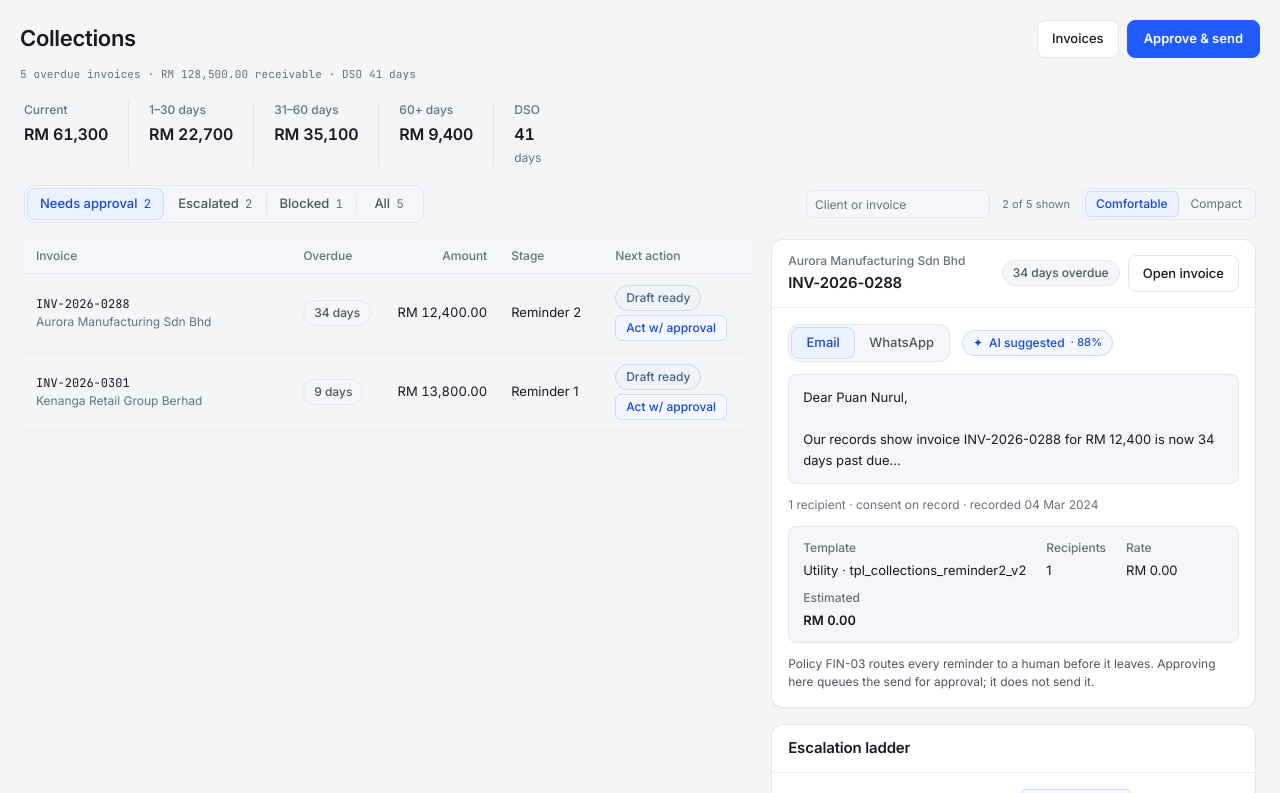
Test case: M13-S05 · collections queue › says the SEARCH is empty rather than claiming the bucket is clear
Check: the heading "Collections" is shown, box [20,22,136,55]
In the search field named "Search receivables": (898, 204) [806,190,990,218], type "no such client"
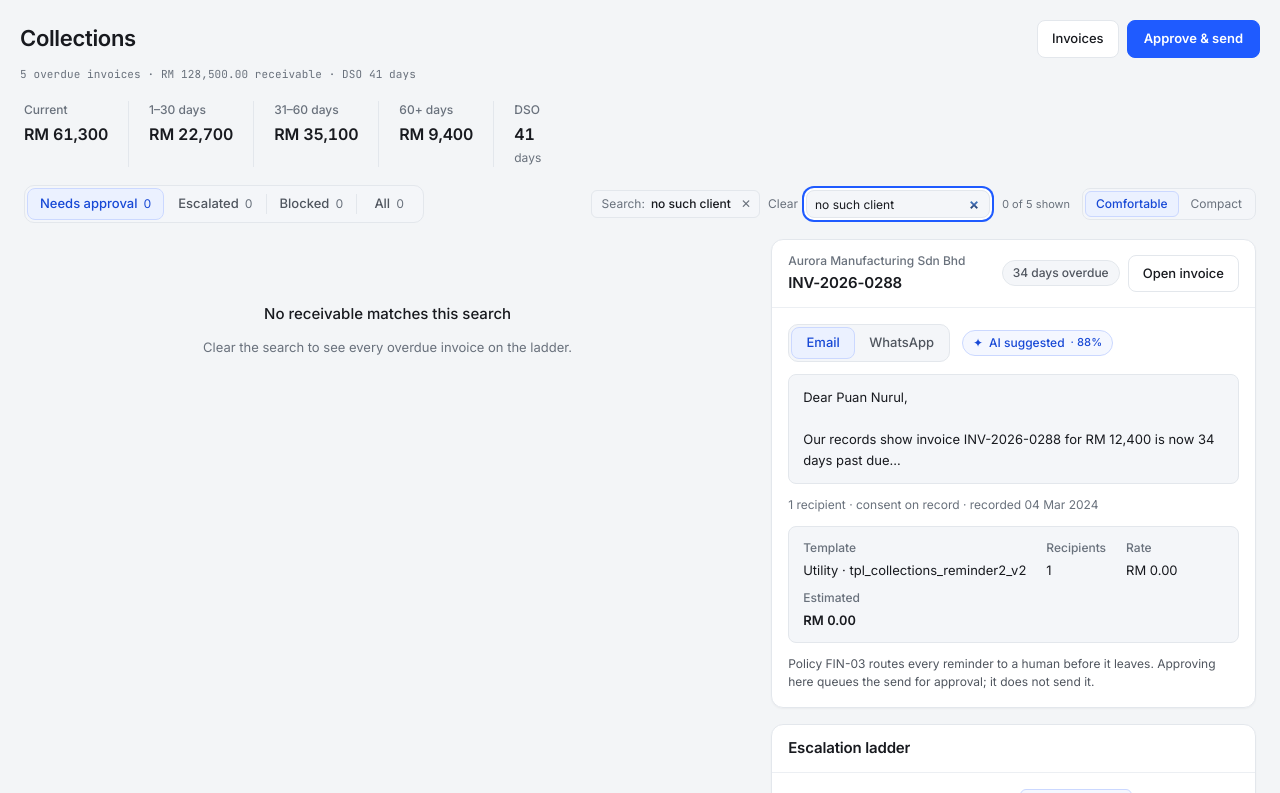
Check: the text "No receivable matches this search" is shown, box [264,303,511,326]
